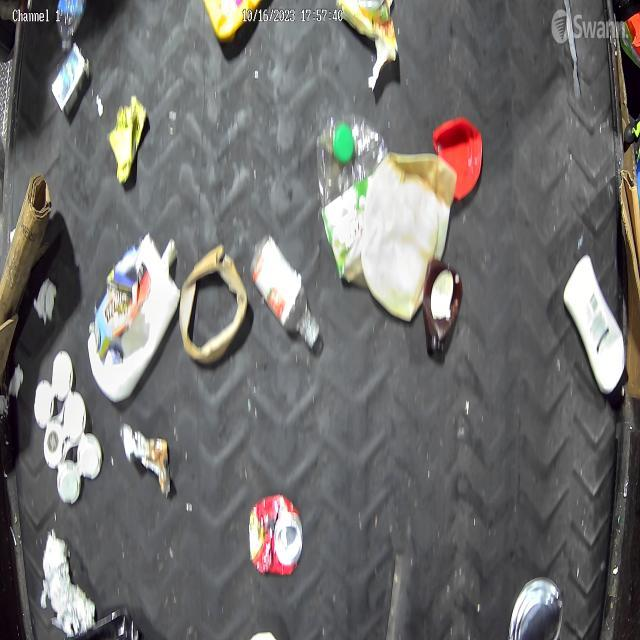can: (249, 493, 303, 578), (507, 575, 567, 640)
non_white_jug: (87, 234, 181, 402)
